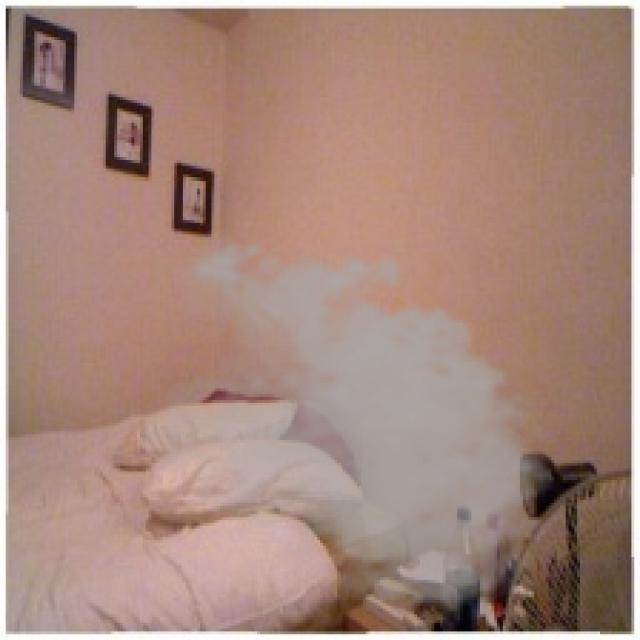Smoke: (140, 228, 566, 618)
